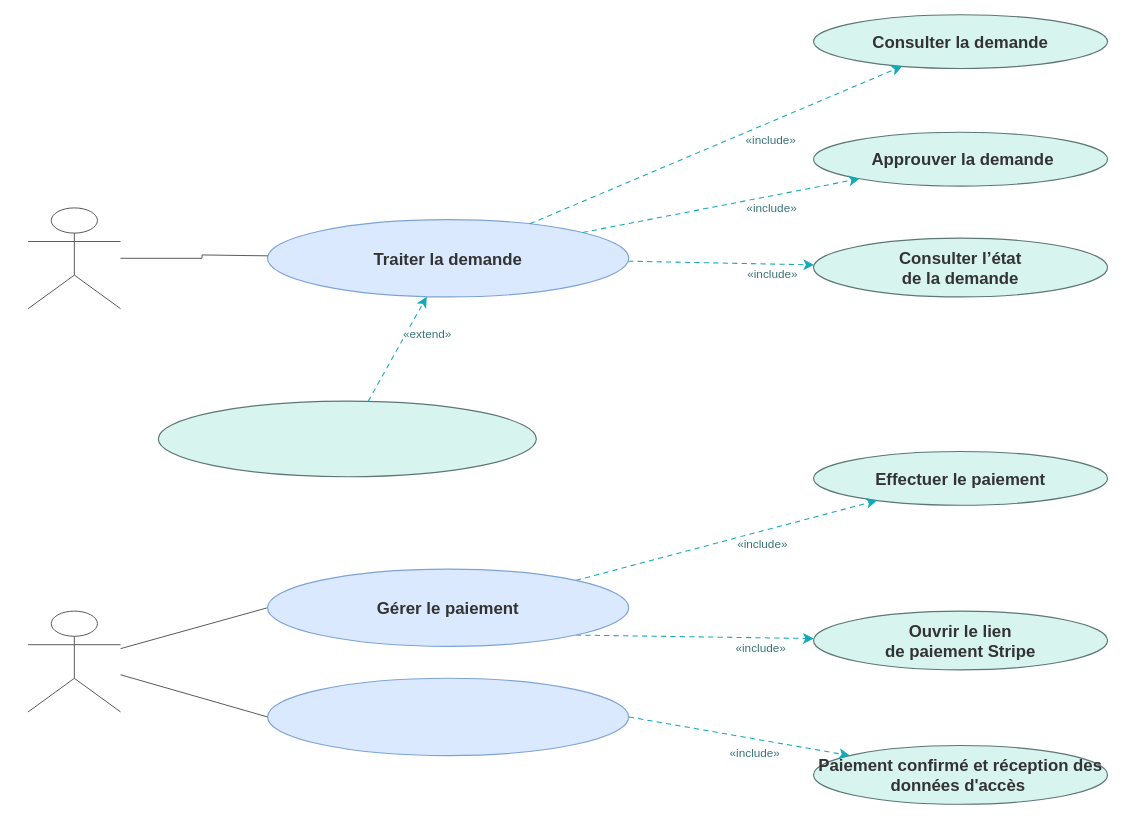
Some shapes in this 1123 by 820 pixel diagram are drawn without their labels. Here are the shapes that lost their labels. From the top down, the box of each, then its label:
(27, 207, 121, 309): Administrateur SaaS
(157, 400, 537, 477): Rejeter la demande et préciser le motif
(27, 610, 121, 712): Représentant de la banque
(267, 677, 629, 756): Se connecter à l’espace activé
